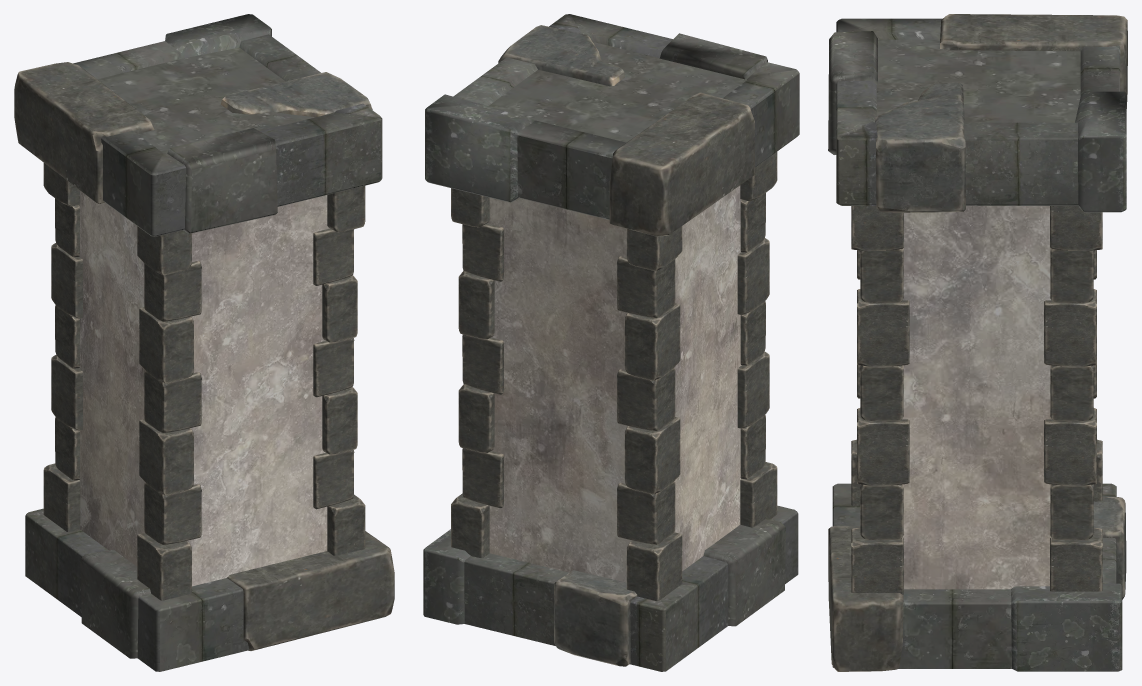
3 views of the same model, side by side, from view 1: azimuth 30°, elevation 25°; view 2: azimuth 150°, elevation 25°; view 3: azimuth 270°, elevation 25° (orthographic). The views are drawn at different scales.
Parts seen in each view (by area): view 1: SM_Human_Ruins_Column_Base_01_LOD0; view 2: SM_Human_Ruins_Column_Base_01_LOD0; view 3: SM_Human_Ruins_Column_Base_01_LOD0.
Boxes of the visible parts, x1,y1,x2,y2 form: SM_Human_Ruins_Column_Base_01_LOD0: [14, 14, 394, 671]; SM_Human_Ruins_Column_Base_01_LOD0: [423, 14, 799, 671]; SM_Human_Ruins_Column_Base_01_LOD0: [828, 14, 1127, 671].
Bounding box in the file's own units: 1.04 × 2.04 × 1.03.
3 materials, 3 textured.
